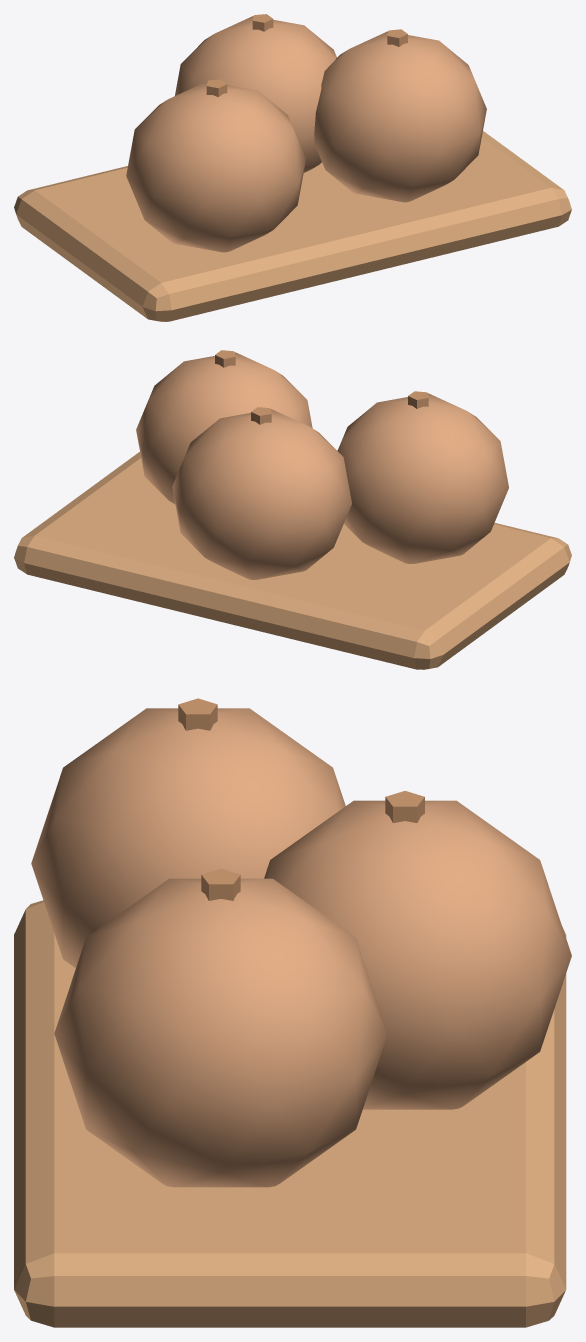
Rendered from Test_CheonRef_FruitTray.fbx.
3 views of the same model, one above another, from view 1: azimuth 30°, elevation 25°; view 2: azimuth 150°, elevation 25°; view 3: azimuth 270°, elevation 25° (orthographic). The views are drawn at different scales.
Parts seen in each view (by area): view 1: OfferingWoodenTray.001, OfferingPersimmon.003, OfferingPersimmon.004, OfferingPersimmon.005; view 2: OfferingWoodenTray.001, OfferingPersimmon.005, OfferingPersimmon.003, OfferingPersimmon.004; view 3: OfferingWoodenTray.001, OfferingPersimmon.004, OfferingPersimmon.005, OfferingPersimmon.003, FruitStem.003, FruitStem.004, FruitStem.005.
Part boxes in pixels (<box>): OfferingWoodenTray.001: <box>14,131,571,321</box>; OfferingPersimmon.003: <box>126,81,305,252</box>; OfferingPersimmon.004: <box>314,31,486,202</box>; OfferingPersimmon.005: <box>175,16,336,172</box>; OfferingWoodenTray.001: <box>14,452,571,669</box>; OfferingPersimmon.005: <box>172,409,351,579</box>; OfferingPersimmon.003: <box>337,393,508,563</box>; OfferingPersimmon.004: <box>136,352,312,504</box>; OfferingWoodenTray.001: <box>14,900,566,1327</box>; OfferingPersimmon.004: <box>54,878,387,1187</box>; OfferingPersimmon.005: <box>264,800,571,1109</box>; OfferingPersimmon.003: <box>31,708,345,968</box>; FruitStem.003: <box>178,698,217,730</box>; FruitStem.004: <box>201,868,240,900</box>; FruitStem.005: <box>385,791,424,822</box>.
Size of the model in its own units: 80 by 33.5 by 48.5.
